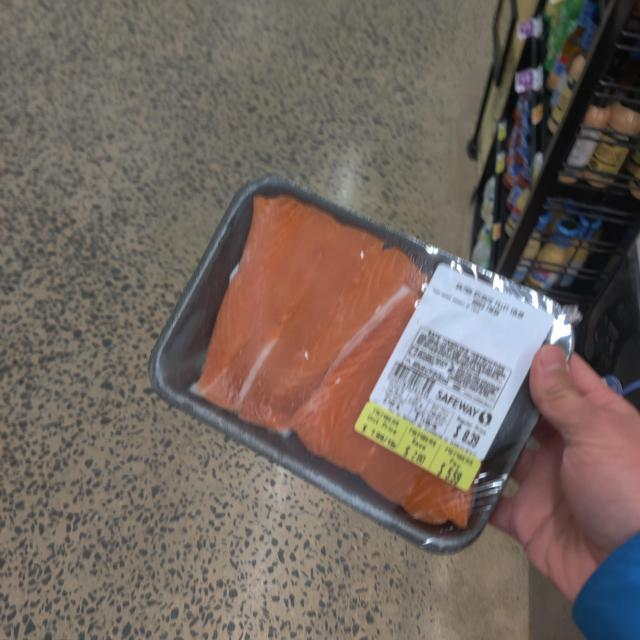Meat: (145, 174, 573, 548)
